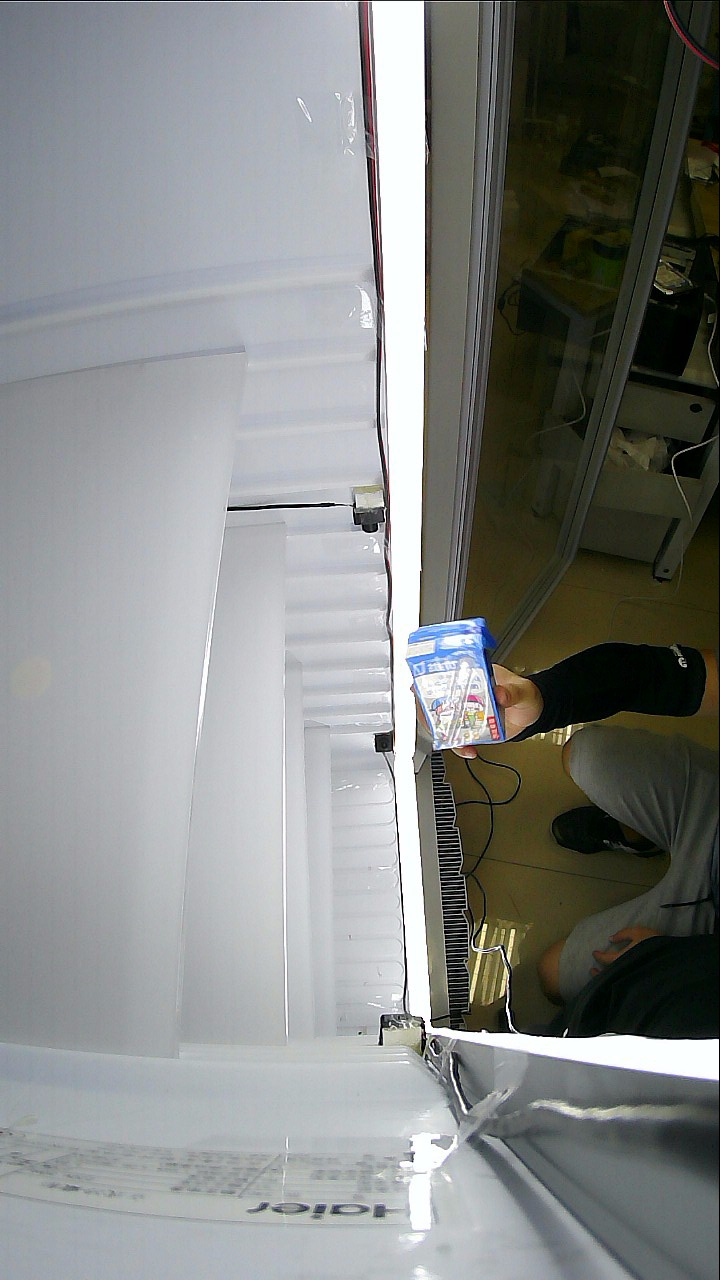VitaSoyOriginal: (410, 622, 547, 761)
